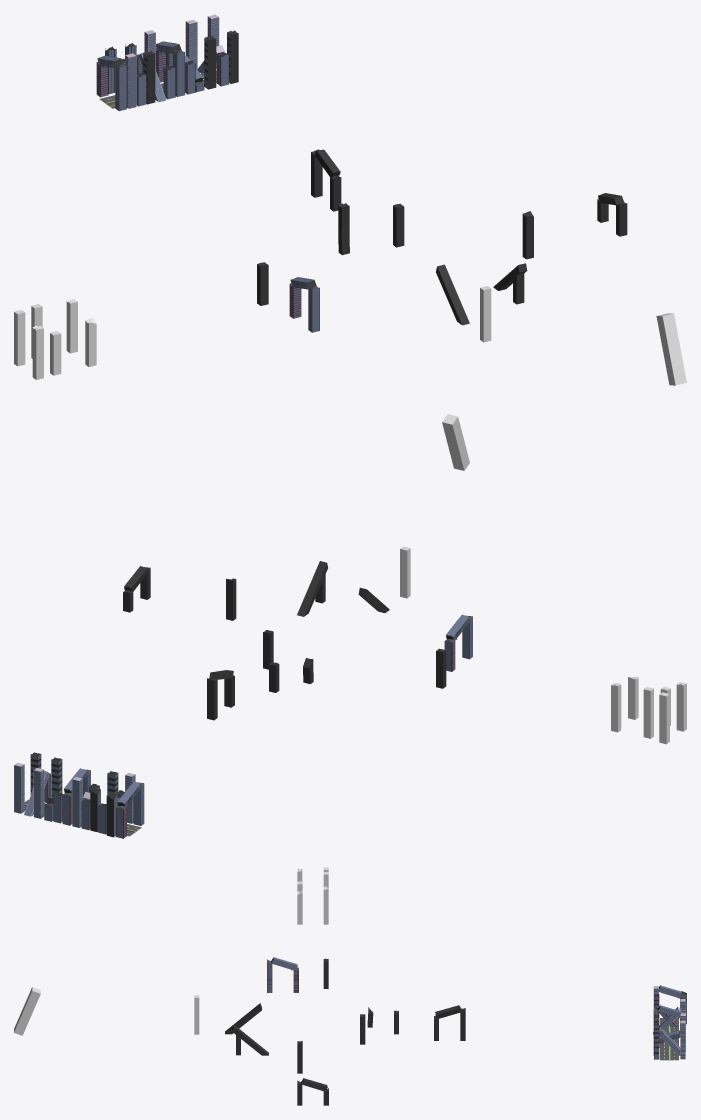
File: PostApocalypticStreetWSeperatedAssets.fbx
3 renders of one model, top to bottom at view 1: azimuth 30°, elevation 25°; view 2: azimuth 150°, elevation 25°; view 3: azimuth 270°, elevation 25°, orthographic. The views are drawn at different scales.
Parts seen in each view (by area): view 1: Cube.019, Plane.007, Plane.012, Cube.024, Plane.004, Cube.015, Cube.028, Cube.008, Cube.013, Plane.017, Plane.002, Cube.016; view 2: Plane.007, Cube.019, Plane.012; view 3: Cube.019, Plane.007, Plane.001.
Part boxes in pixels (x1,y1,x2,y2): Cube.019: (656, 313, 686, 385); Plane.007: (289, 277, 319, 332); Plane.012: (105, 46, 136, 108); Cube.024: (436, 264, 469, 325); Plane.004: (204, 36, 216, 89); Cube.015: (14, 310, 25, 366); Cube.028: (480, 286, 491, 342); Cube.008: (32, 325, 43, 379); Cube.013: (66, 299, 77, 353); Plane.017: (143, 51, 155, 104); Plane.002: (227, 30, 238, 83); Cube.016: (85, 318, 96, 366); Plane.007: (444, 614, 472, 671); Cube.019: (442, 414, 469, 470); Plane.012: (106, 773, 135, 837); Cube.019: (14, 987, 40, 1035); Plane.007: (267, 957, 298, 992); Plane.001: (660, 1018, 678, 1060).
Bounding box in the file's own units: 50942 × 7840 × 71472.
